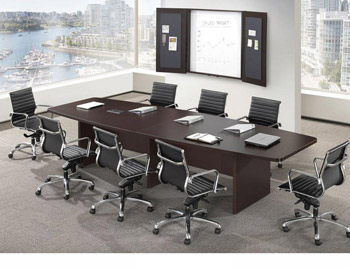conference_table: (47, 97, 317, 213)
